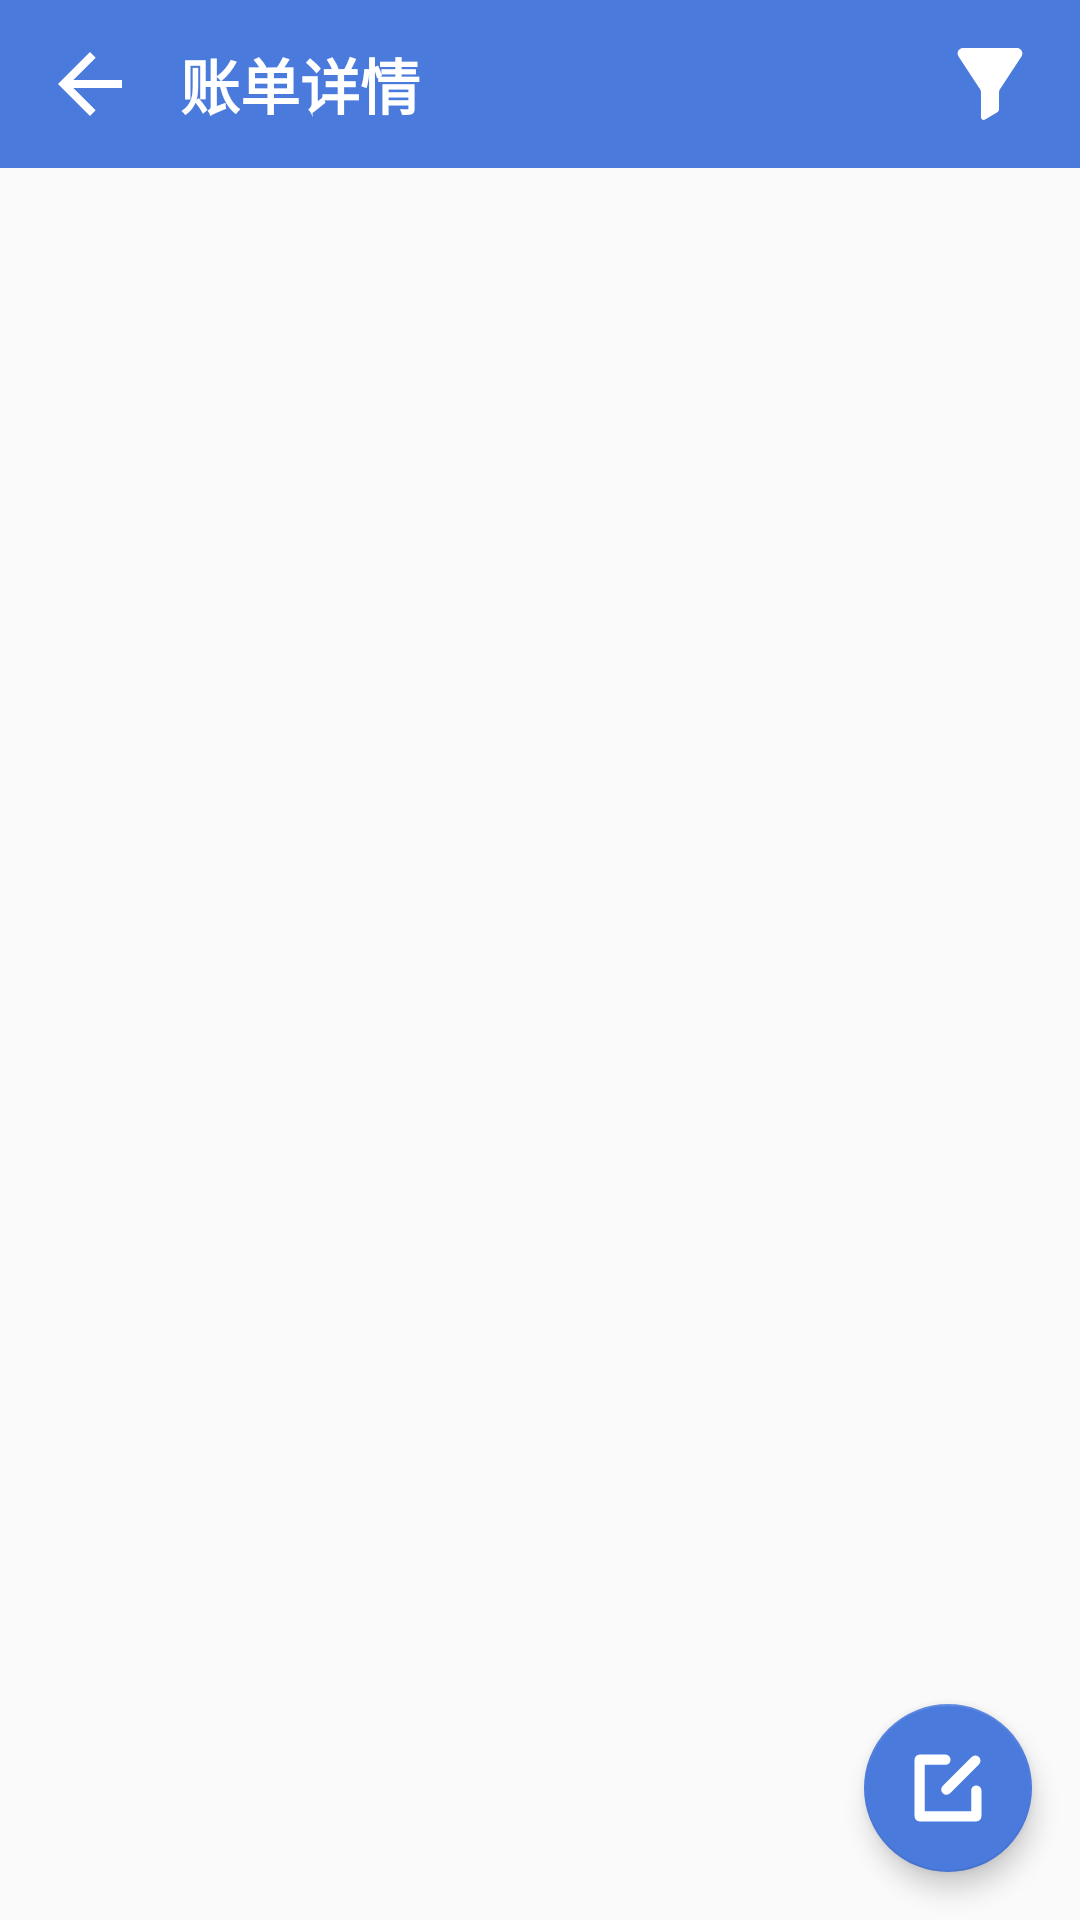

Screen size 1080×1920. Icon name, then its center in pixels as point (x, y):
back: point (90, 84)
edit: point (948, 1788)
